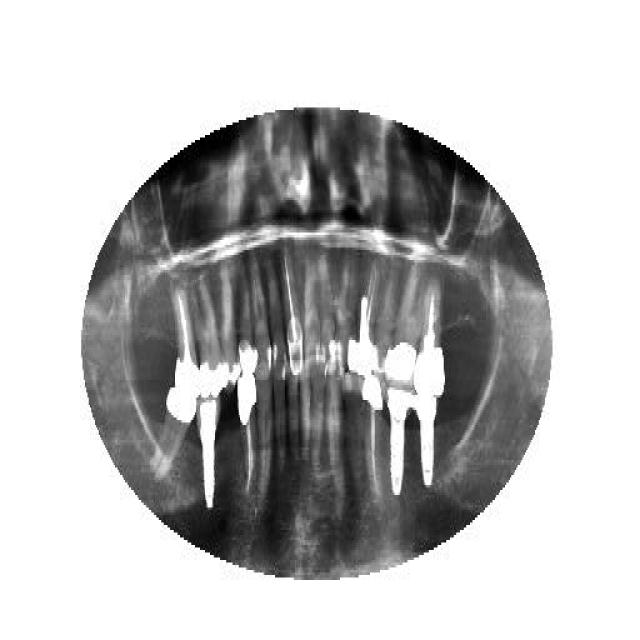Fillings: (384, 268, 428, 388), (149, 388, 199, 482), (188, 275, 226, 397), (238, 260, 258, 375)
Implant: (348, 257, 382, 375), (416, 277, 449, 395), (166, 282, 199, 390), (280, 250, 305, 372), (361, 372, 385, 498), (196, 392, 220, 512), (235, 372, 257, 500), (415, 390, 441, 492), (388, 388, 412, 498)
